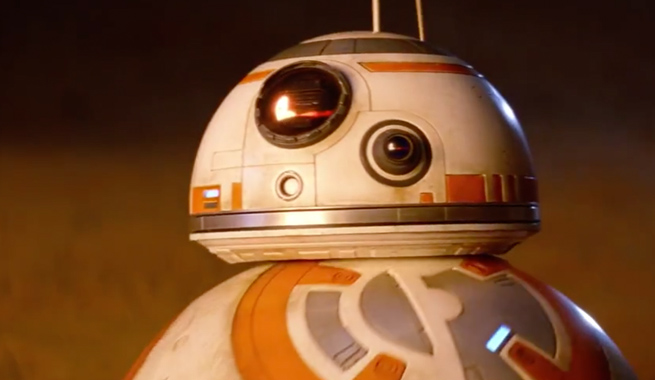bb8: (123, 31, 640, 380)
